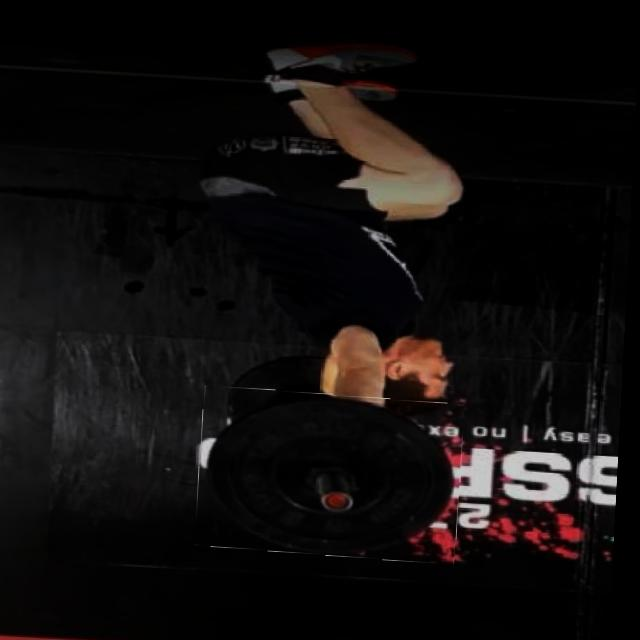barbell: (201, 384, 469, 558)
